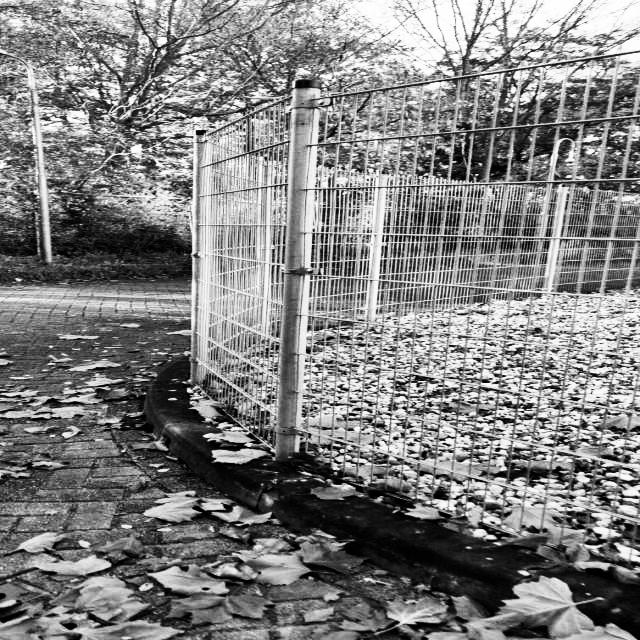fences: (187, 120, 640, 585)
